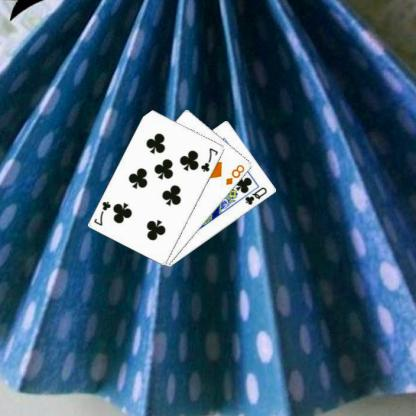7C: (93, 198, 114, 227), (200, 145, 221, 173)
8D: (225, 162, 248, 186)
QC: (244, 184, 270, 206)
